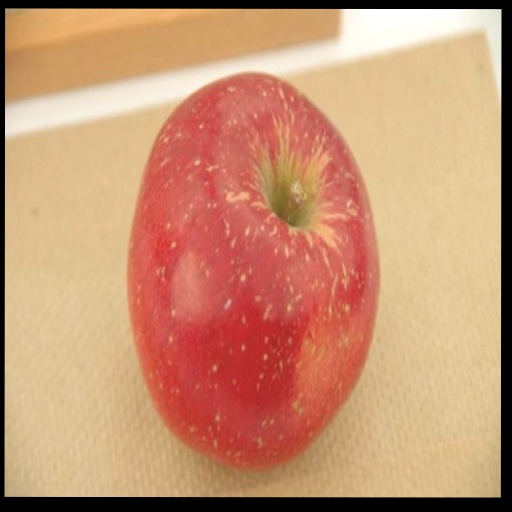fruit: (128, 74, 378, 469)
